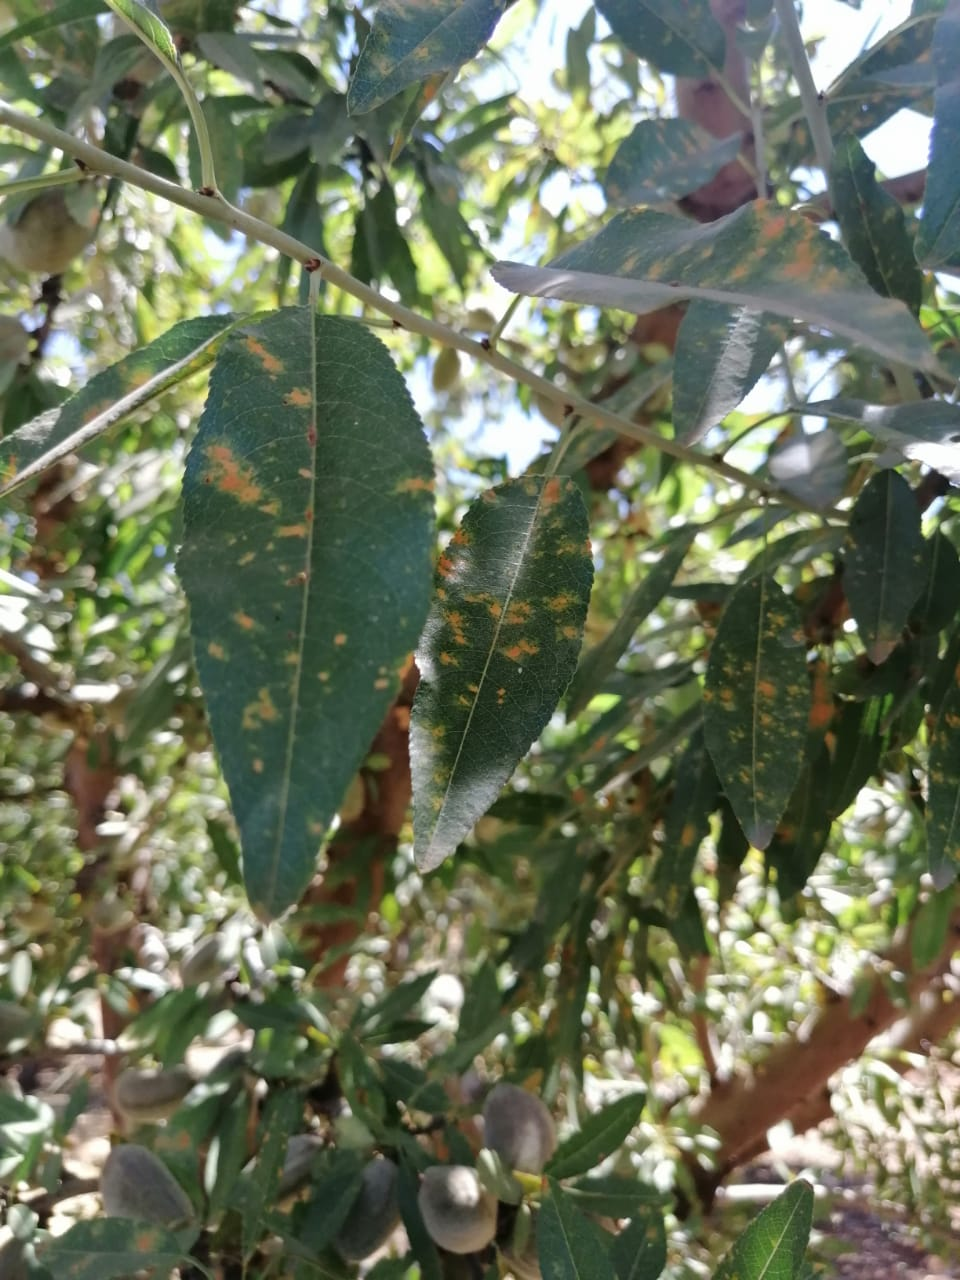polystigma: (174, 304, 437, 925), (406, 475, 590, 872), (3, 314, 244, 488), (706, 568, 814, 858)
